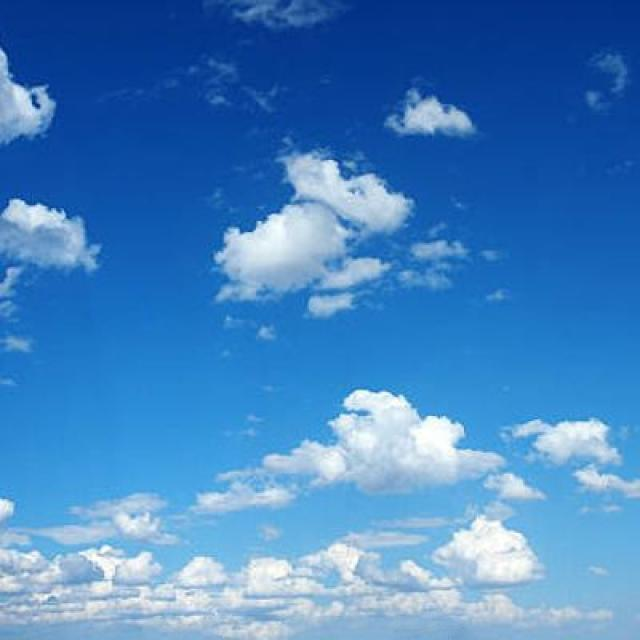Cu: (1, 29, 640, 557)
